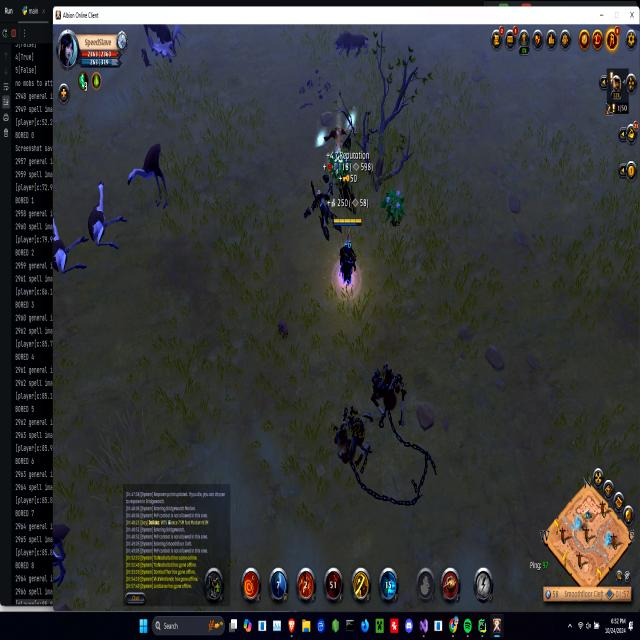hide: (382, 182, 407, 233), (327, 149, 353, 186)
mob: (86, 177, 130, 254), (54, 206, 90, 277)
ore: (127, 137, 172, 218), (141, 25, 184, 70), (333, 28, 370, 66)
red: (329, 214, 364, 295)
